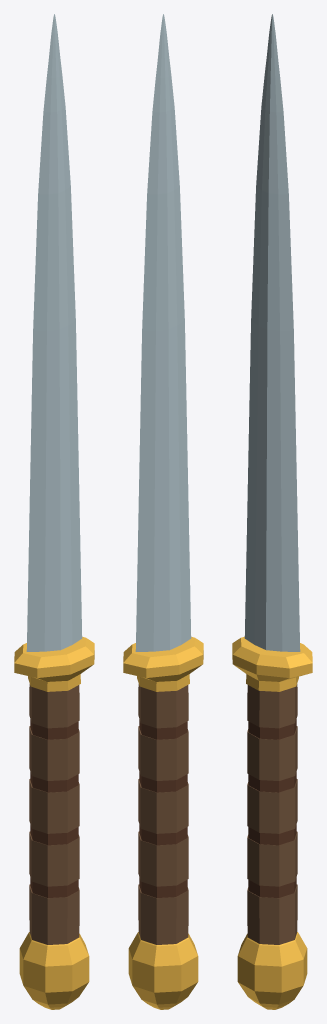
The model's file is Espada_Claudio.fbx.
3 renders of one model, left to right at view 1: azimuth 30°, elevation 25°; view 2: azimuth 210°, elevation 25°; view 3: azimuth 330°, elevation 25°, orthographic.
Visible parts, largest first — view 1: Cube; view 2: Cube; view 3: Cube.
Part boxes in pixels (x1,y1,x2,y2): Cube: (14, 14, 94, 1009); Cube: (123, 14, 203, 1009); Cube: (232, 14, 312, 1009).
Size of the model in its own units: 27.97 by 329 by 21.58.
